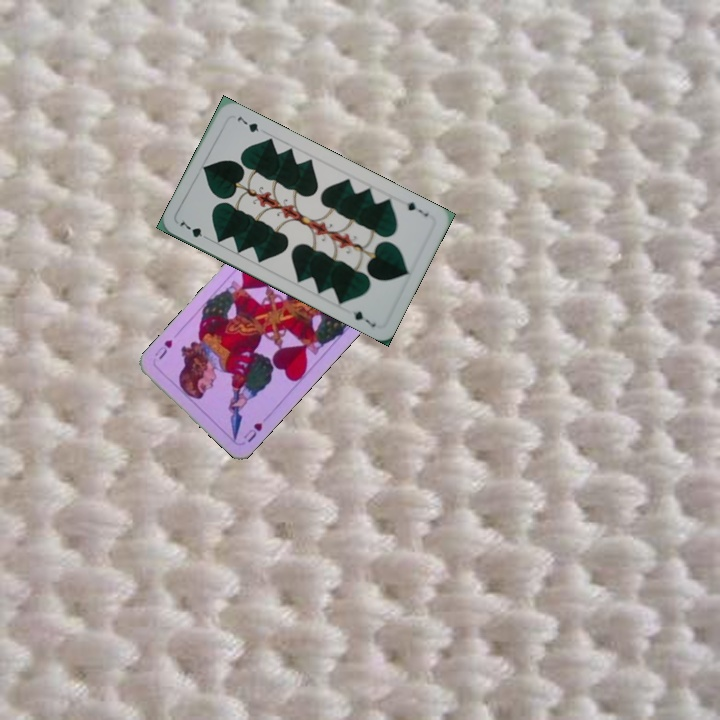G7: (175, 217, 213, 243), (403, 198, 431, 219)
HU: (239, 418, 265, 445)
